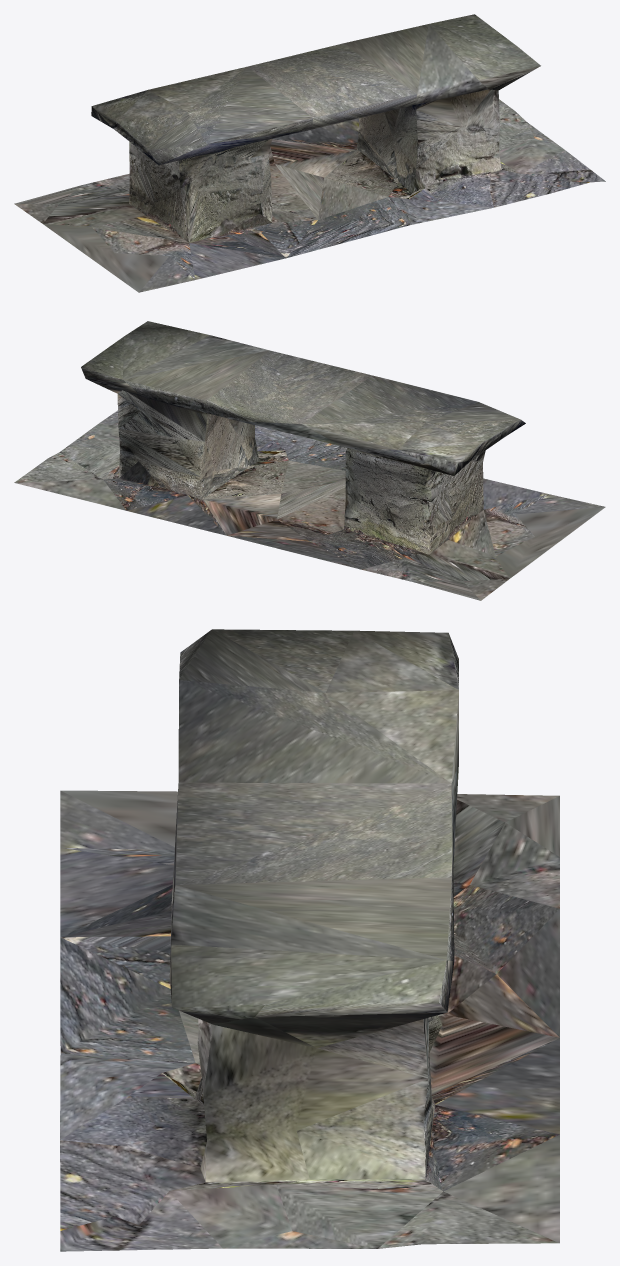
The model's file is priesterissolins.fbx.
3 renders of one model, top to bottom at view 1: azimuth 30°, elevation 25°; view 2: azimuth 150°, elevation 25°; view 3: azimuth 270°, elevation 25°, orthographic. The views are drawn at different scales.
Visible parts, largest first — view 1: Stone Bench (Photoscanned); view 2: Stone Bench (Photoscanned); view 3: Stone Bench (Photoscanned).
Boxes of the visible parts, bbox=[...] form: Stone Bench (Photoscanned): bbox=[14, 14, 605, 292]; Stone Bench (Photoscanned): bbox=[14, 321, 605, 600]; Stone Bench (Photoscanned): bbox=[60, 629, 559, 1251].
Size of the model in its own units: 2 by 0.4427 by 0.9272.
